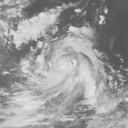cyclone: (36, 37, 99, 94)
